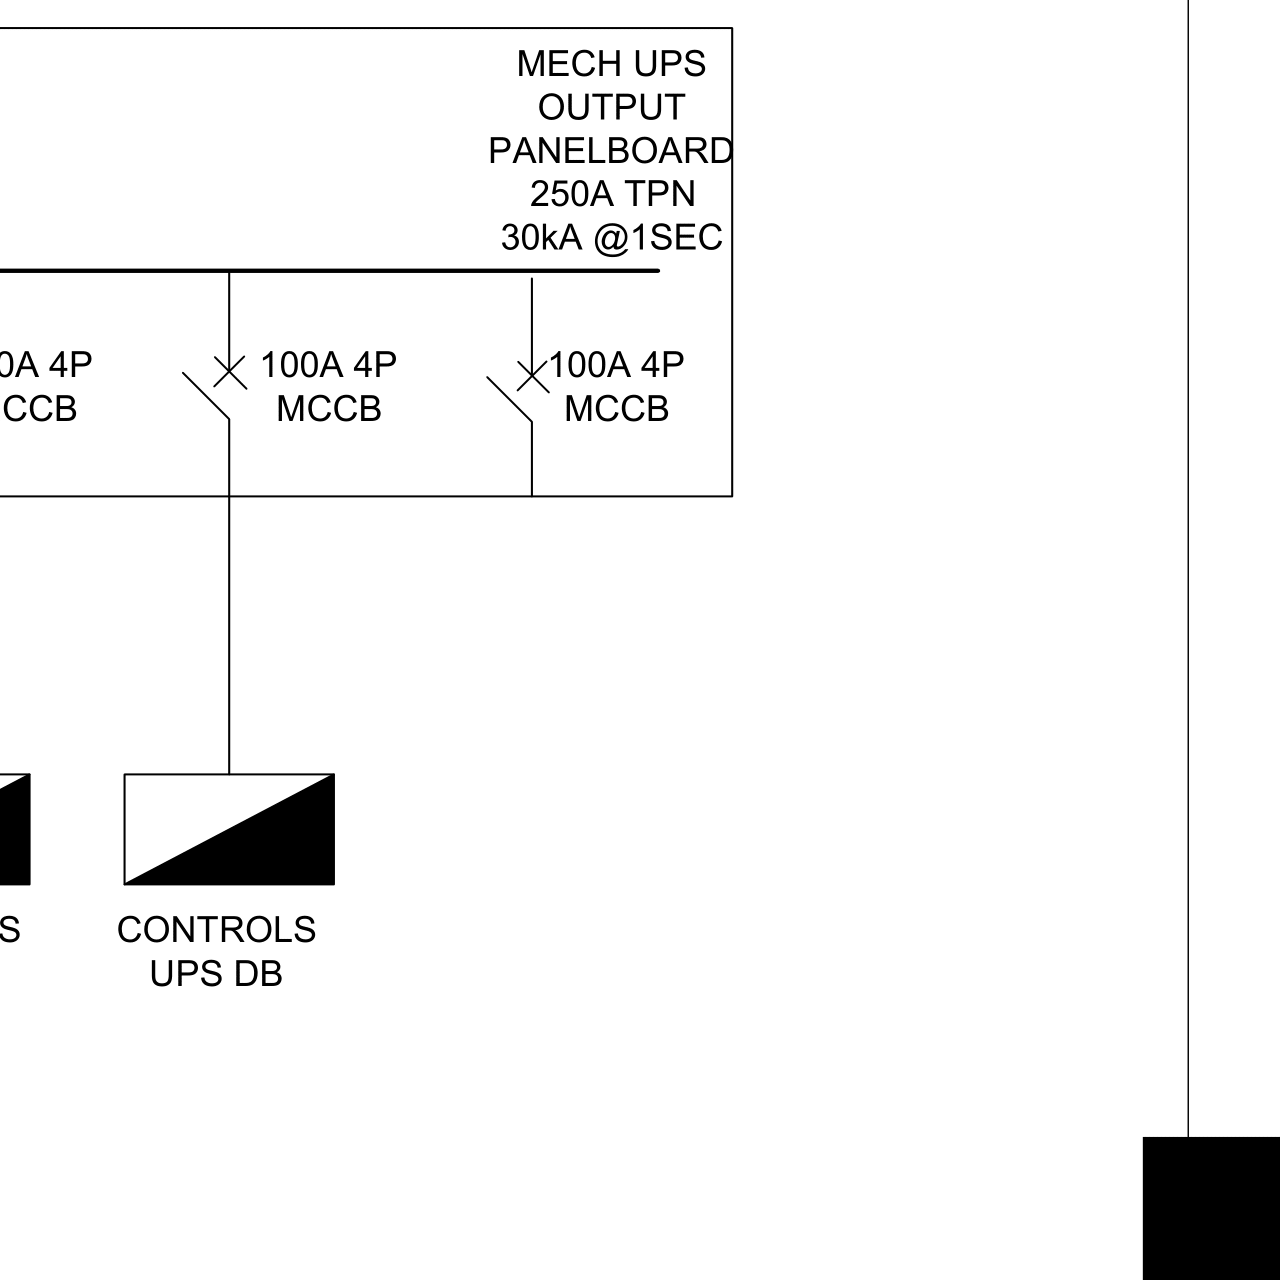Distribution Board: (110, 764, 347, 898)
